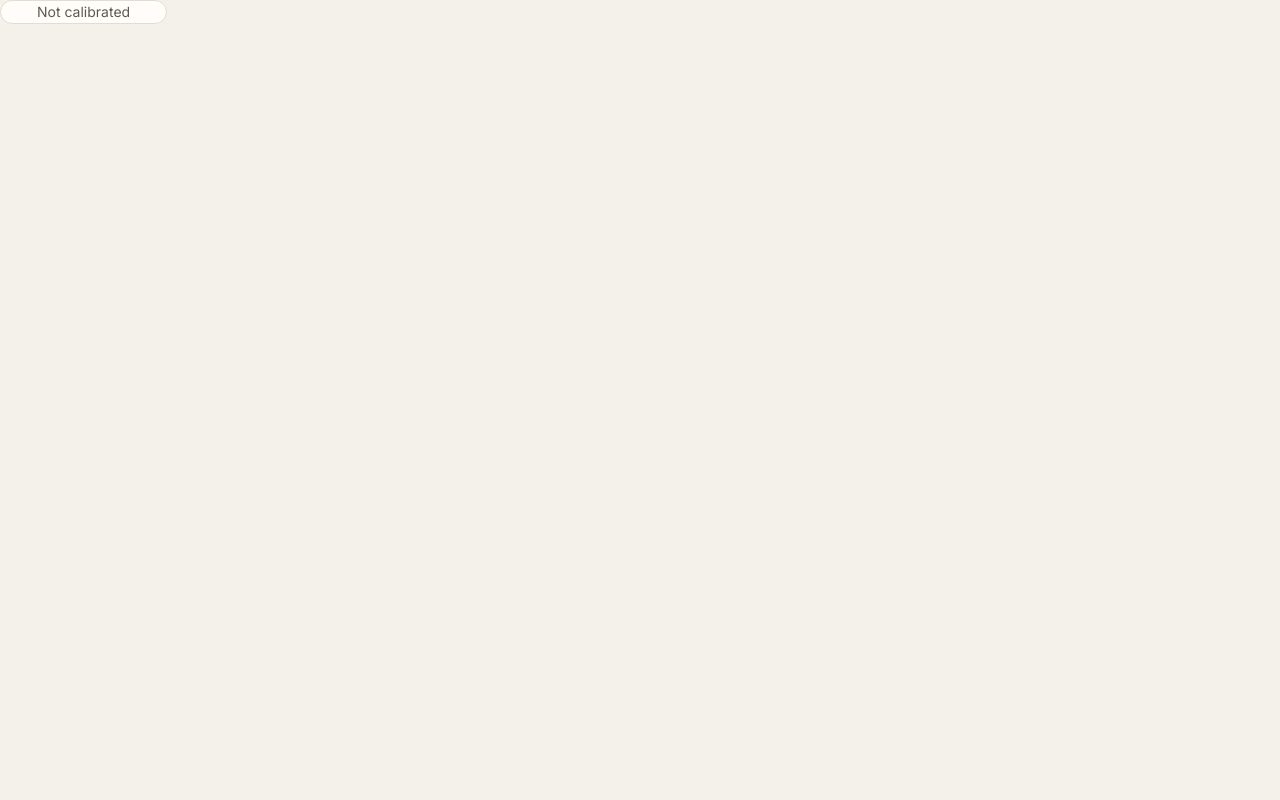
CalStatusPill › the read-through popover adds the bring-you-back line
The width and height of the screenshot is (1280, 800).
Step 1. Click the button with test id "cal-status" → point(84, 12), box [0,0,167,24]
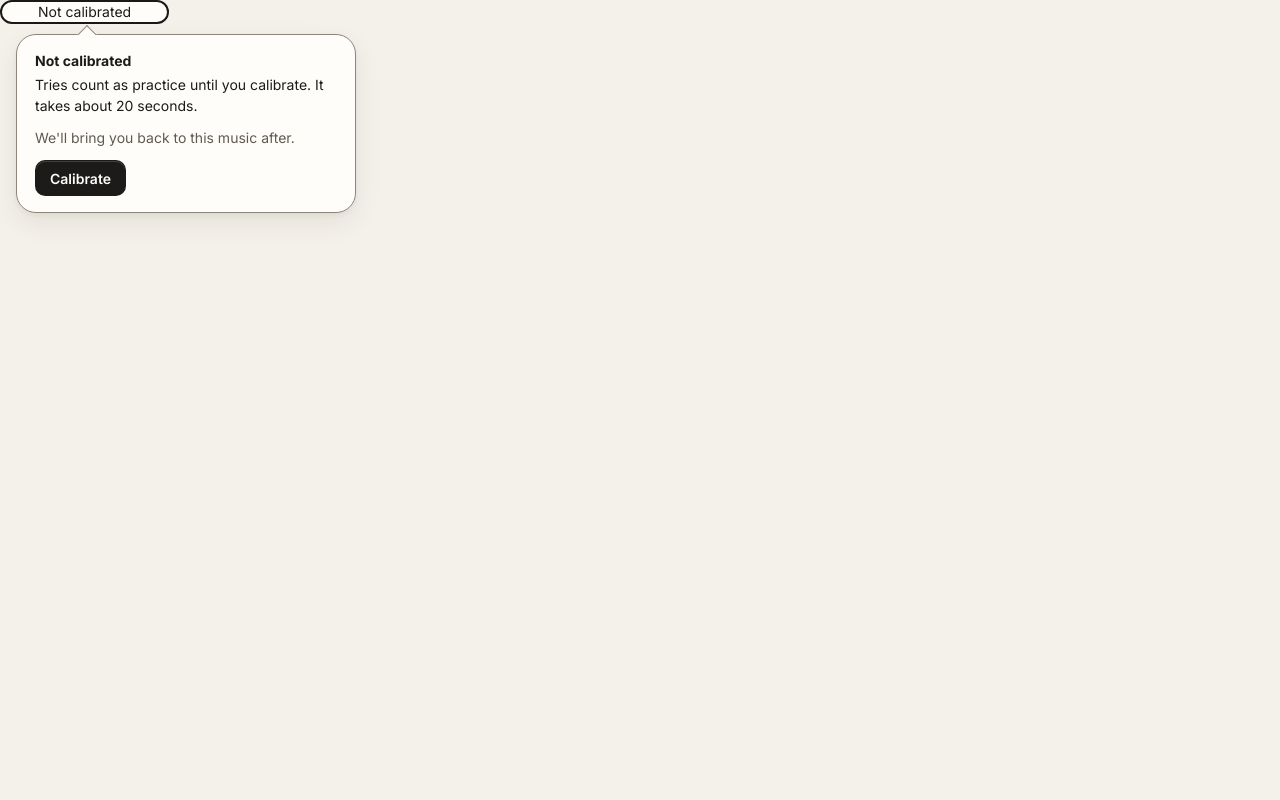
Check: the dialog with class "ui-popover" shows "We'll bring you back to this music after.", box [35,129,295,146]
